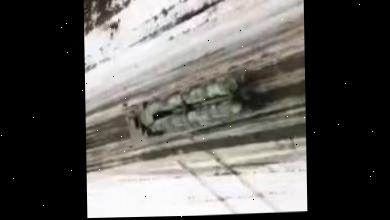rszo: (122, 67, 255, 148)
